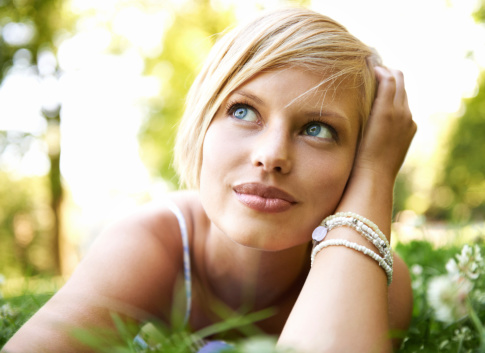deitado: (51, 6, 447, 351)
